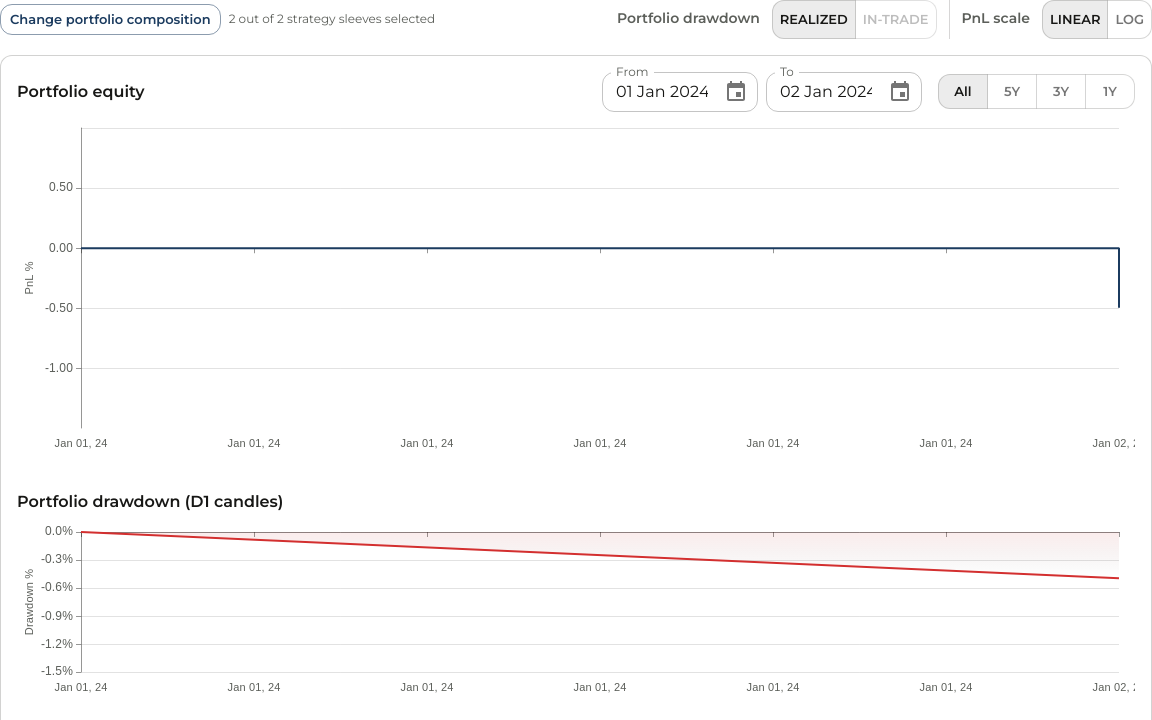
it: PortfolioTab › supports filtering the portfolio composition
This screenshot has width=1152, height=720.
Click the button "Change portfolio composition". click: (110, 19)
box: [0,4,221,35]
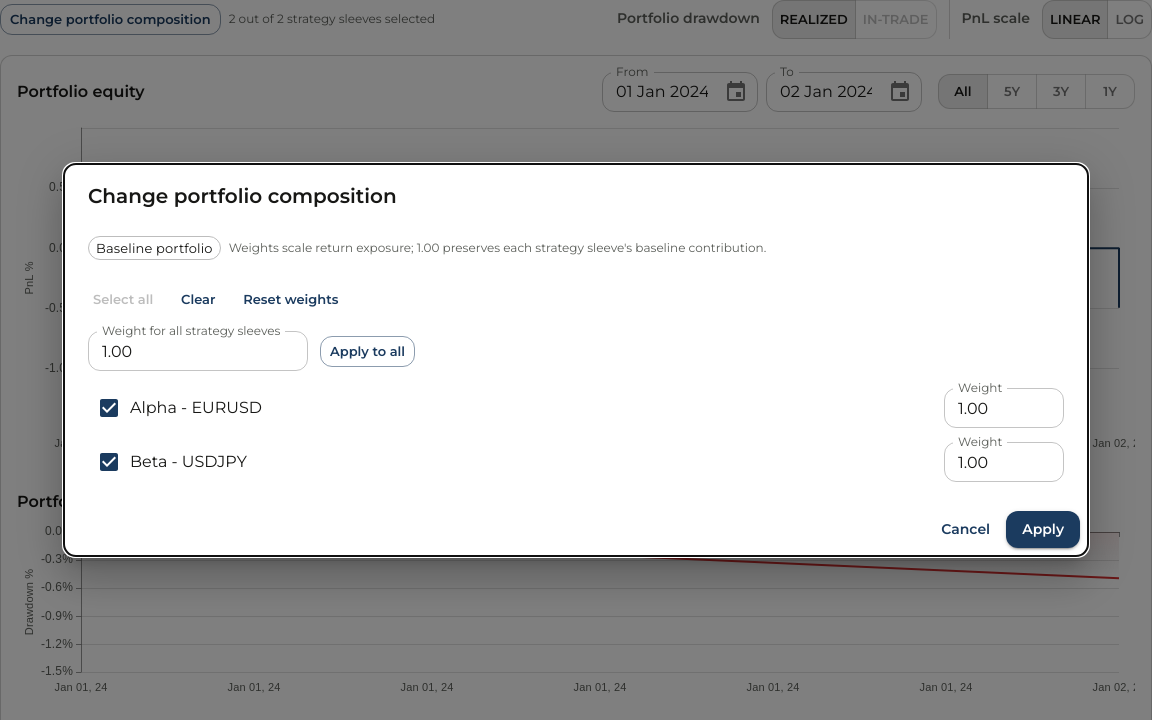
Click the checkbox labelled "Beta - USDJPY". click: (172, 462)
box: [97,450,247,474]
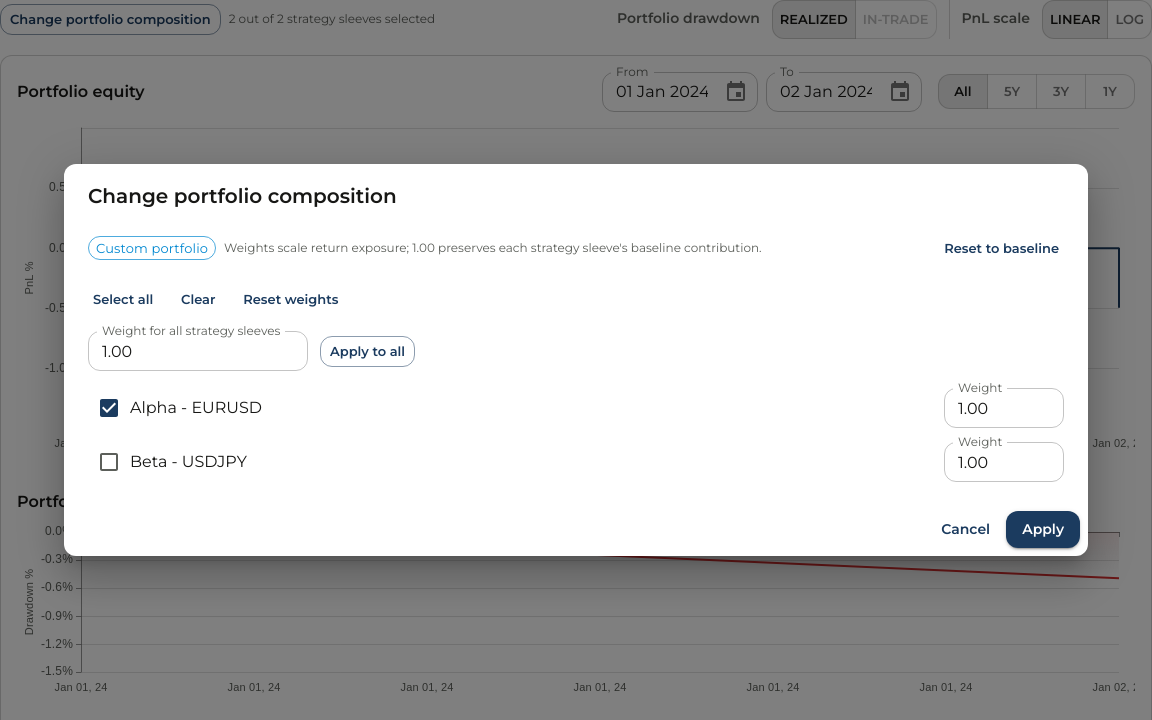
Click the button "Apply". click: (1043, 529)
box: [1006,511,1080,548]
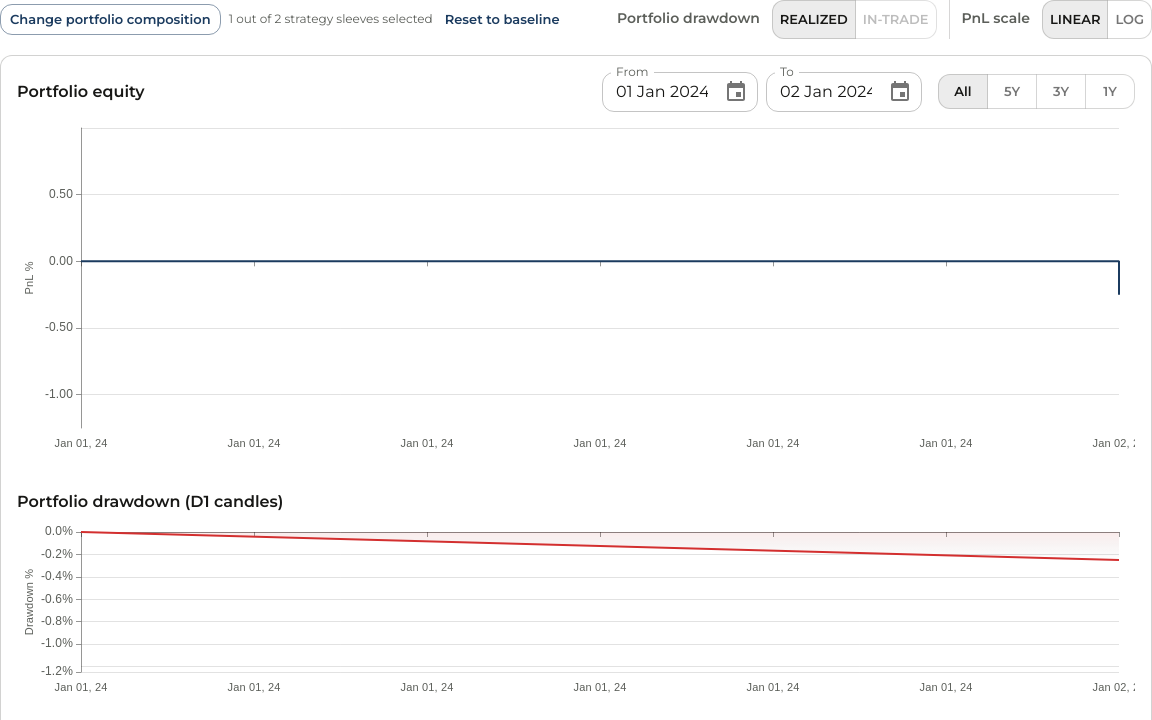
Expected: the text "1 out of 2 strategy sleeves selected" is shown, [229,9,433,29]
Click the button "Reset to baseline". click: (502, 19)
box: [441,6,564,33]
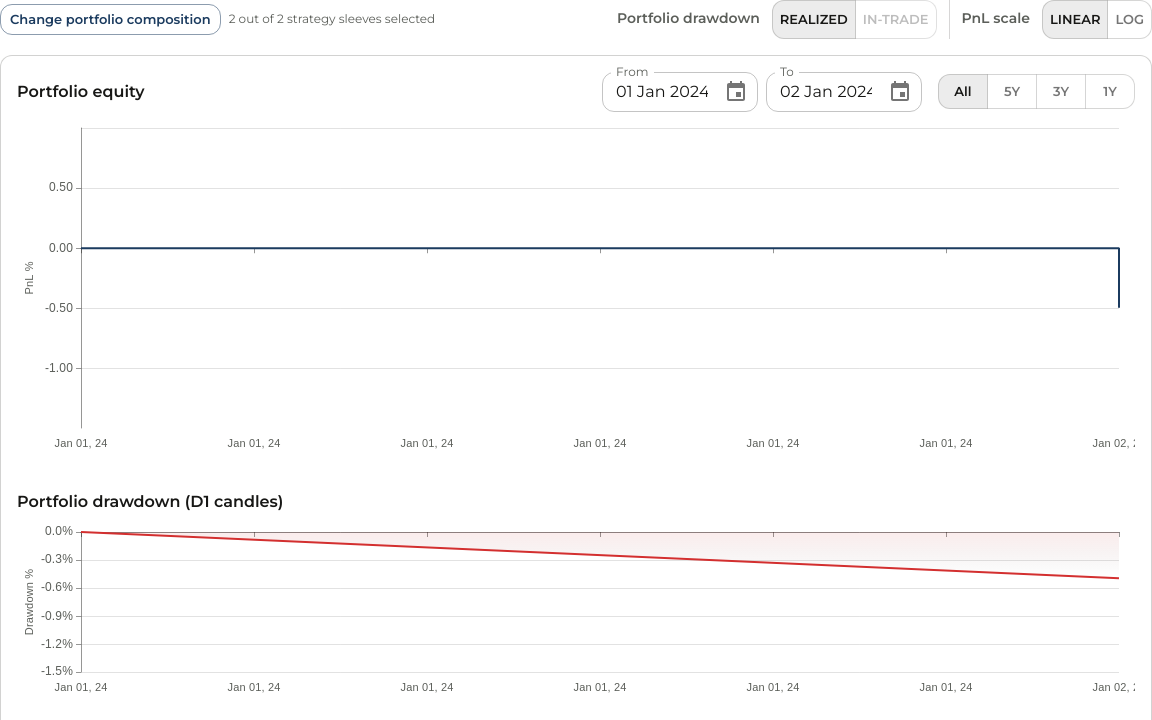
Expected: the text "2 out of 2 strategy sleeves selected" is shown, [229,9,435,29]
Expected: the button "Reset to baseline" is gone
